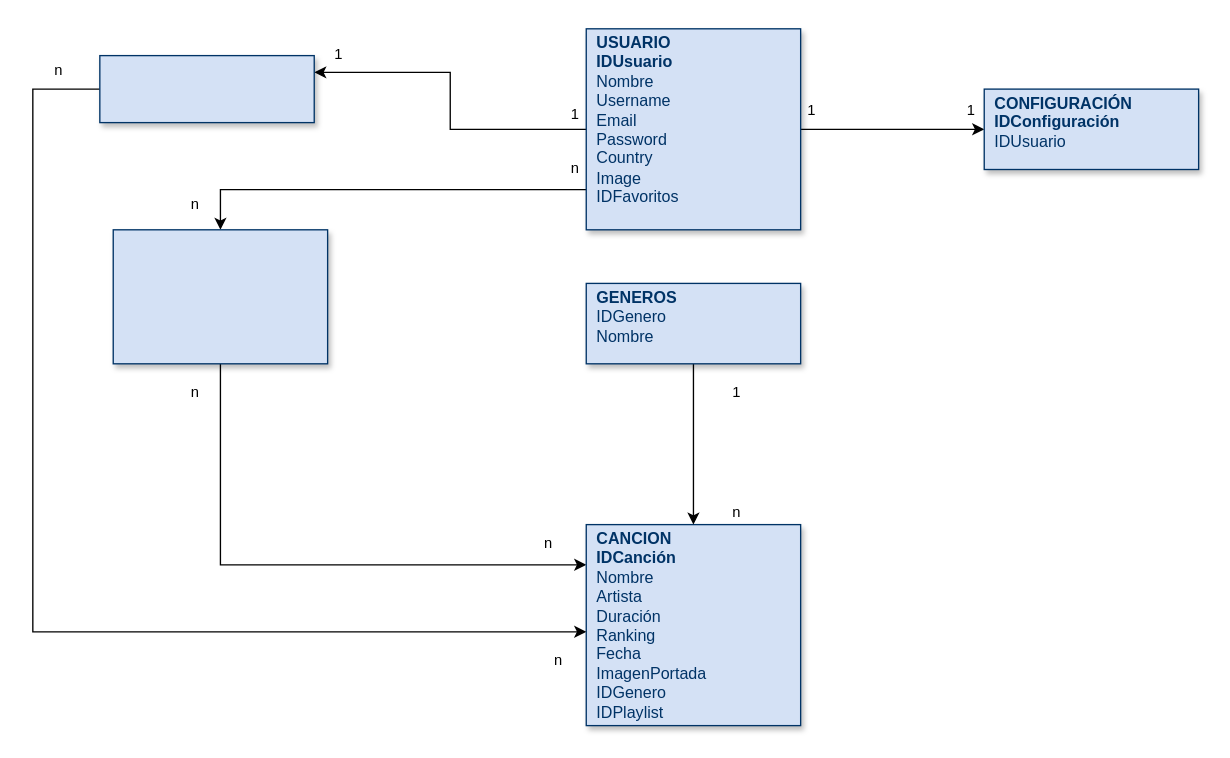
The diagram is 1230 pixels wide and 758 high, and some of its shapes have lost their labels. The shapes that lost their labels are listed below. From the top down, each one's centre as x and y in pixels, then its label:
At (207,90): "FAVORITOS IDFavortios IDUsuario".
At (221,298): "PLAYLIST IDPlaylist Name CreatedAt IDUsuario isPublic".
